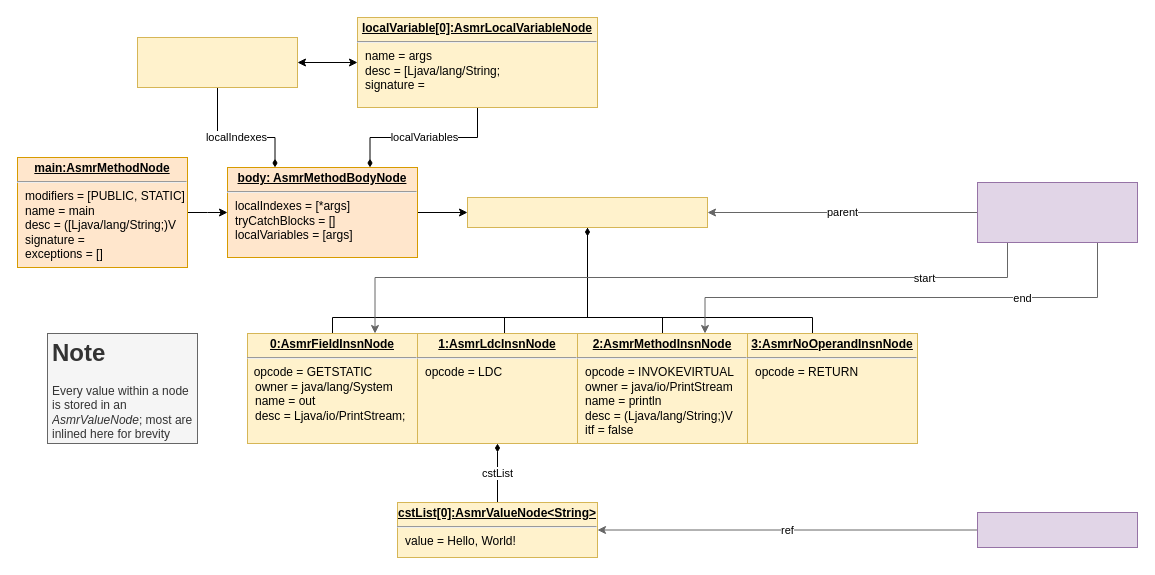
This 1155x575 diagram has some shape labels left out. The centre of each missing label's shape, as x and y in pixels:
"instructions:AsmrInstructionListNode" belongs at [587,212].
"localIndexes[0]:AsmrIndex idx = 0" belongs at [217,62].
"printInsns:AsmrListSlice includeStart: false includeEnd: true" belongs at [1057,212].
"strPtr:AsmrSlice" belongs at [1057,530].
